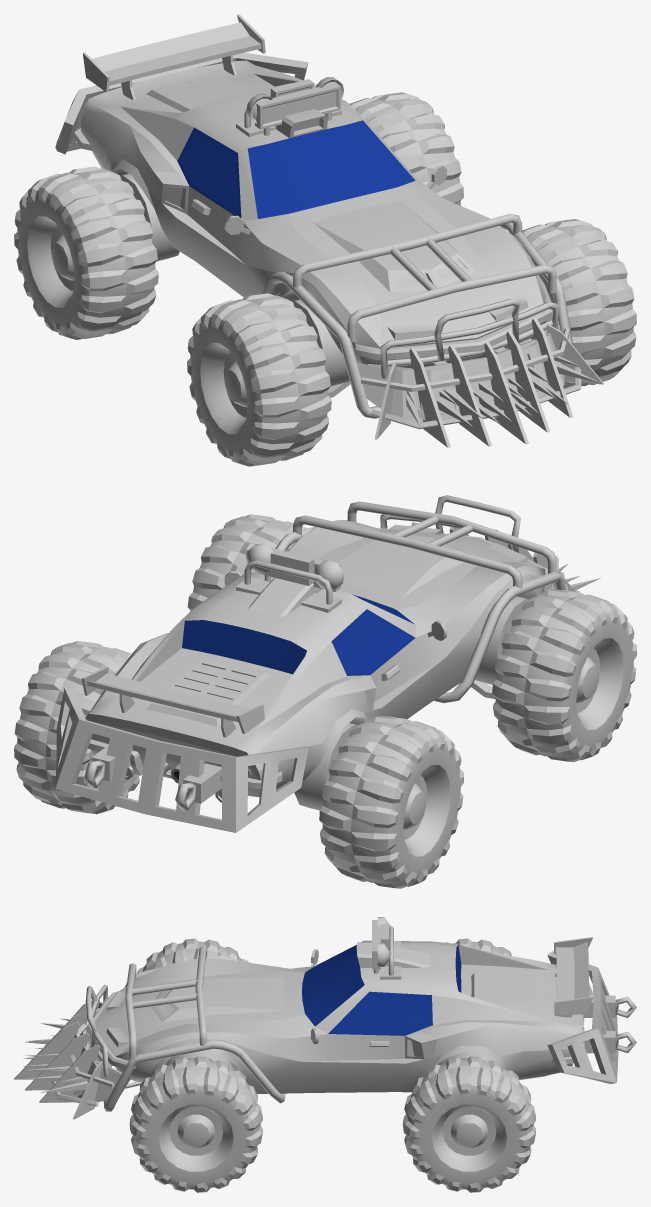
File: Car.fbx
3 renders of one model, top to bottom at view 1: azimuth 30°, elevation 25°; view 2: azimuth 150°, elevation 25°; view 3: azimuth 270°, elevation 25°, orthographic. The views are drawn at different scales.
Parts seen in each view (by area): view 1: Car, Tire_v2_BR (Shield_UP_3), Tire_v2_FR (Shield_UP_3), Bullbar_v2 (Shield_UP_4), Tire_v2_FL (Shield_UP_3), Armor (Shield_UP_4), Body_Kit_1, Tire_v2_BL (Shield_UP_3), Spoiler, Back_Bullbar (Shield_UP_4), Headlight_v1 (Shield_UP_2), Body_Kit_6 (+8 smaller); view 2: Car, Tire_v2_BR (Shield_UP_3), Tire_v2_FR (Shield_UP_3), Back_Bullbar (Shield_UP_4), Tire_v2_BL (Shield_UP_3), Armor (Shield_UP_4), Body_Kit_1, Tire_v2_FL (Shield_UP_3), Spoiler, Headlight_v2 (Shield_UP_4), Body_Kit_2, Body_Kit_5 (+6 smaller); view 3: Car, Tire_v2_BL (Shield_UP_3), Tire_v2_FL (Shield_UP_3), Bullbar_v2 (Shield_UP_4), Armor (Shield_UP_4), Back_Bullbar (Shield_UP_4), Body_Kit_1, Spoiler, Body_Kit_2, Tire_v2_FR (Shield_UP_3), Headlight_v2 (Shield_UP_4), Body_Kit_5 (+4 smaller).
Boxes of the visible parts, x1=… form: Car: x1=80, y1=60, x2=545, y2=368; Tire_v2_BR (Shield_UP_3): x1=14, y1=166, x2=158, y2=339; Tire_v2_FR (Shield_UP_3): x1=187, y1=293, x2=331, y2=466; Bullbar_v2 (Shield_UP_4): x1=357, y1=299, x2=603, y2=447; Tire_v2_FL (Shield_UP_3): x1=522, y1=219, x2=636, y2=388; Armor (Shield_UP_4): x1=262, y1=213, x2=573, y2=418; Body_Kit_1: x1=313, y1=200, x2=475, y2=292; Tire_v2_BL (Shield_UP_3): x1=349, y1=92, x2=463, y2=205; Spoiler: x1=82, y1=14, x2=265, y2=100; Back_Bullbar (Shield_UP_4): x1=55, y1=52, x2=308, y2=154; Headlight_v1 (Shield_UP_2): x1=255, y1=83, x2=340, y2=135; Body_Kit_6: x1=355, y1=297, x2=551, y2=360; Car: x1=85, y1=520, x2=545, y2=802; Tire_v2_BR (Shield_UP_3): x1=319, y1=715, x2=463, y2=888; Tire_v2_FR (Shield_UP_3): x1=492, y1=589, x2=636, y2=762; Back_Bullbar (Shield_UP_4): x1=55, y1=688, x2=308, y2=832; Tire_v2_BL (Shield_UP_3): x1=14, y1=641, x2=139, y2=814; Armor (Shield_UP_4): x1=275, y1=501, x2=566, y2=703; Body_Kit_1: x1=336, y1=533, x2=471, y2=598; Tire_v2_FL (Shield_UP_3): x1=187, y1=514, x2=306, y2=610; Spoiler: x1=81, y1=666, x2=264, y2=737; Headlight_v2 (Shield_UP_4): x1=236, y1=543, x2=344, y2=612; Body_Kit_2: x1=146, y1=657, x2=269, y2=726; Body_Kit_5: x1=248, y1=577, x2=322, y2=617; Car: x1=95, y1=940, x2=583, y2=1093; Tire_v2_BL (Shield_UP_3): x1=402, y1=1056, x2=536, y2=1192; Tire_v2_FL (Shield_UP_3): x1=129, y1=1056, x2=262, y2=1192; Bullbar_v2 (Shield_UP_4): x1=14, y1=986, x2=137, y2=1119; Armor (Shield_UP_4): x1=103, y1=946, x2=285, y2=1111; Back_Bullbar (Shield_UP_4): x1=547, y1=951, x2=636, y2=1083; Body_Kit_1: x1=151, y1=977, x2=283, y2=1021; Spoiler: x1=554, y1=937, x2=593, y2=1017; Body_Kit_2: x1=471, y1=973, x2=556, y2=1008; Tire_v2_FR (Shield_UP_3): x1=137, y1=938, x2=248, y2=973; Headlight_v2 (Shield_UP_4): x1=377, y1=917, x2=401, y2=979; Body_Kit_5: x1=356, y1=942, x2=430, y2=967.
Size of the model in its own units: 364 by 226 by 654.
